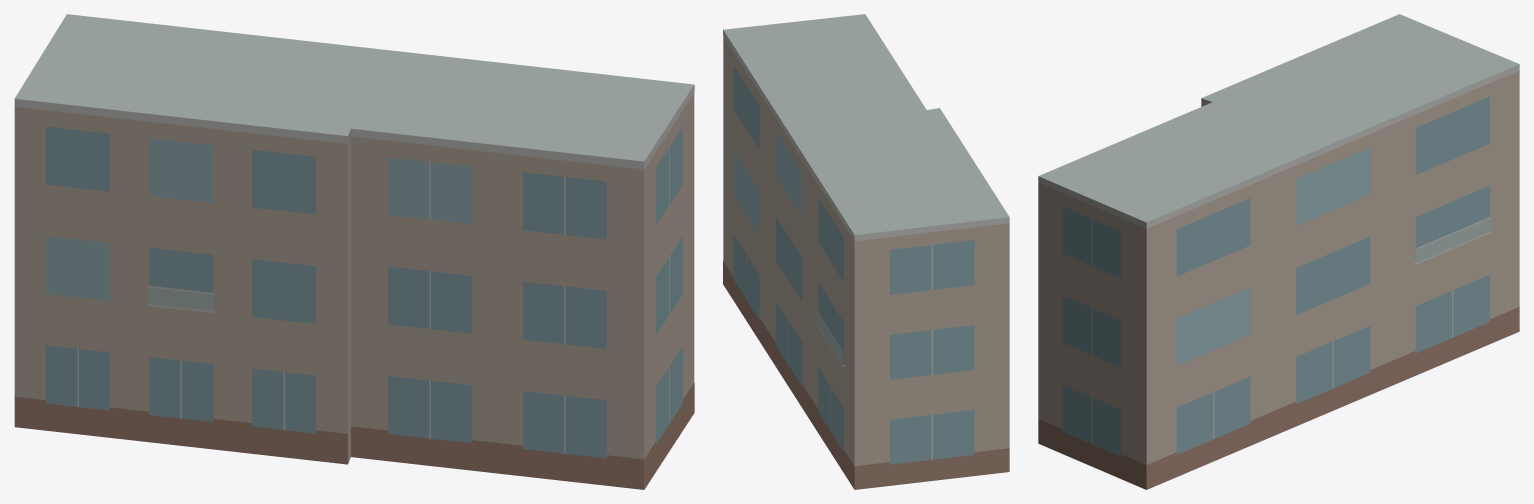
The model's file is survey-upis-32503691.glb.
3 renders of one model, left to right at view 1: azimuth 30°, elevation 25°; view 2: azimuth 150°, elevation 25°; view 3: azimuth 270°, elevation 25°, orthographic. The views are drawn at different scales.
Parts seen in each view (by area): view 1: survey-upis-32503691.tmp; view 2: survey-upis-32503691.tmp; view 3: survey-upis-32503691.tmp.
Boxes of the visible parts, left/top/right/bottom form: survey-upis-32503691.tmp: left=14, top=14, right=694, bottom=489; survey-upis-32503691.tmp: left=723, top=14, right=1009, bottom=489; survey-upis-32503691.tmp: left=1038, top=14, right=1519, bottom=489.
Size of the model in its own units: 17.06 by 10.2 by 16.65.
